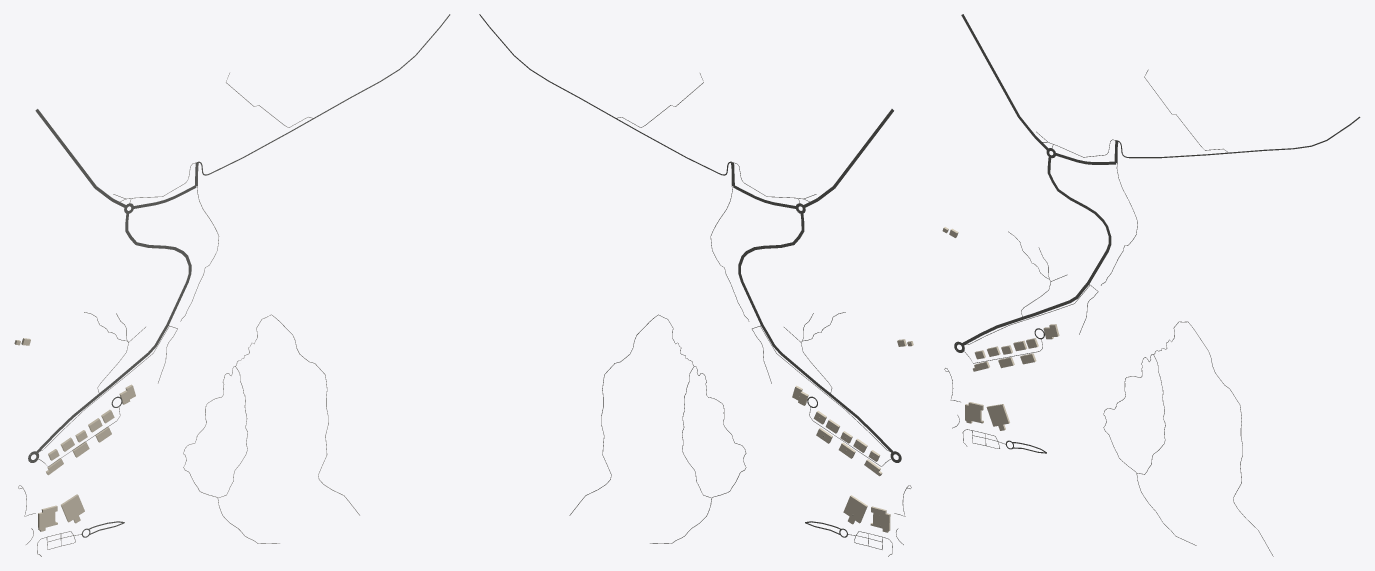
The model's file is historic-palestine-08_31_3496_3257.glb.
3 renders of one model, left to right at view 1: azimuth 30°, elevation 25°; view 2: azimuth 150°, elevation 25°; view 3: azimuth 330°, elevation 25°, orthographic. The views are drawn at different scales.
Visible parts, largest first — view 1: Road דרך אבשלום; view 2: Road דרך אבשלום; view 3: Road דרך אבשלום.
Boxes of the visible parts, x1,y1,x2,y2 form: Road דרך אבשלום: (35, 212, 191, 453); Road דרך אבשלום: (738, 212, 893, 453); Road דרך אבשלום: (961, 156, 1111, 345).
Size of the model in its own units: 1222 by 1327 by 8.7.
